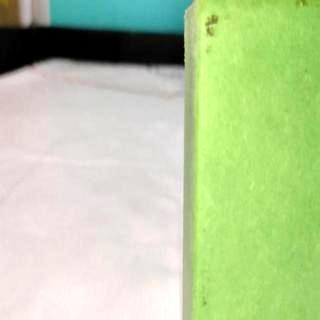greenbox: (184, 0, 320, 320)
